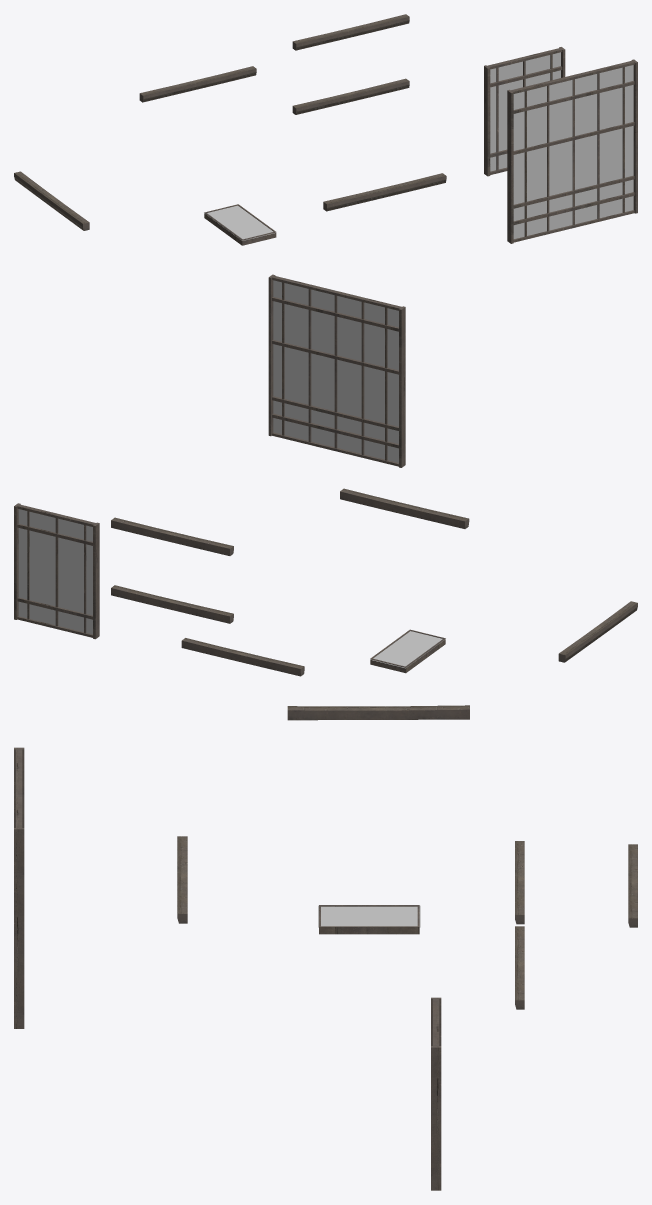
The model's file is SM_Republic_03.fbx.
3 views of the same model, one above another, from view 1: azimuth 30°, elevation 25°; view 2: azimuth 150°, elevation 25°; view 3: azimuth 270°, elevation 25° (orthographic). The views are drawn at different scales.
Parts seen in each view (by area): view 1: SM_Republic_00.003, SM_Republic_03, SM_Republic_00.002; view 2: SM_Republic_00.003, SM_Republic_03, SM_Republic_00.002; view 3: SM_Republic_03, SM_Republic_00.002.
Boxes of the visible parts, bbox=[...] form: SM_Republic_00.003: bbox=[490, 52, 633, 238]; SM_Republic_03: bbox=[14, 14, 637, 245]; SM_Republic_00.002: bbox=[204, 205, 275, 240]; SM_Republic_00.003: bbox=[18, 280, 398, 634]; SM_Republic_03: bbox=[14, 274, 637, 676]; SM_Republic_00.002: bbox=[370, 631, 445, 668]; SM_Republic_03: bbox=[14, 705, 637, 1190]; SM_Republic_00.002: bbox=[318, 905, 420, 927].
Bounding box in the file's own units: 2467 × 1017 × 1878.
